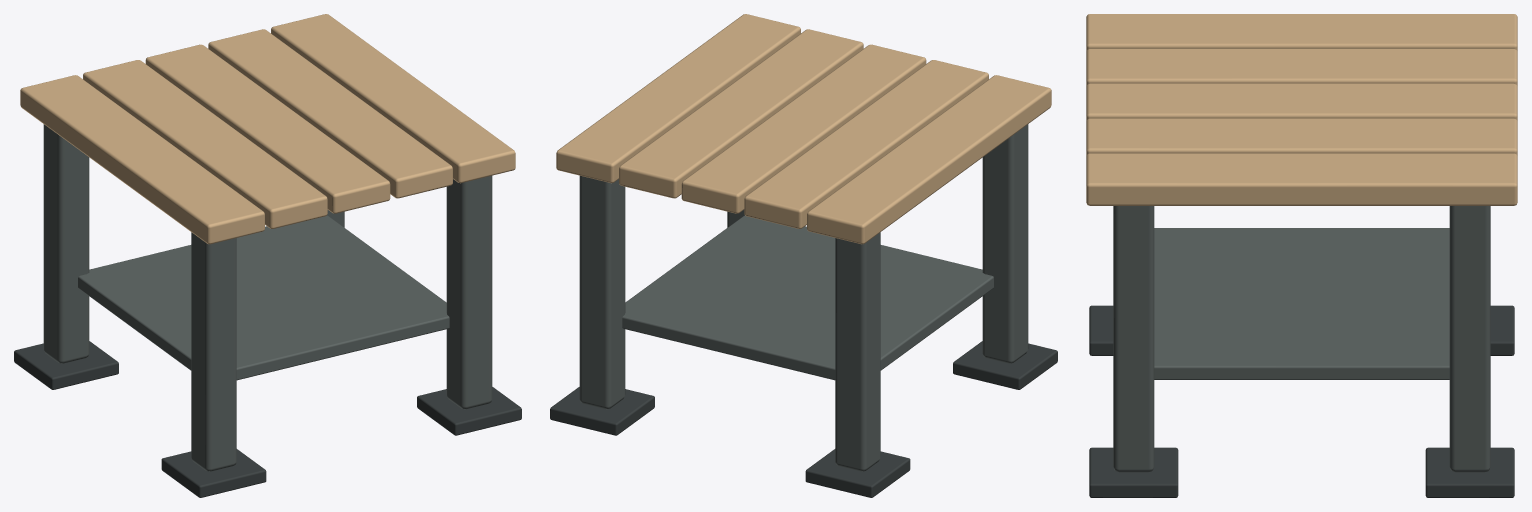
File: public-library-and-reading-garden-public-library-and-r-a3f29b62__30947.glb
3 renders of one model, left to right at view 1: azimuth 30°, elevation 25°; view 2: azimuth 150°, elevation 25°; view 3: azimuth 270°, elevation 25°, orthographic. The views are drawn at different scales.
Parts seen in each view (by area): view 1: public-library-and-reading-garden-garden-side-table; view 2: public-library-and-reading-garden-garden-side-table; view 3: public-library-and-reading-garden-garden-side-table.
Part boxes in pixels (left/top/right/bottom): public-library-and-reading-garden-garden-side-table: left=14, top=14, right=521, bottom=497; public-library-and-reading-garden-garden-side-table: left=550, top=14, right=1057, bottom=497; public-library-and-reading-garden-garden-side-table: left=1086, top=14, right=1517, bottom=497.
Size of the model in its own units: 0.67 by 0.54 by 0.68.
